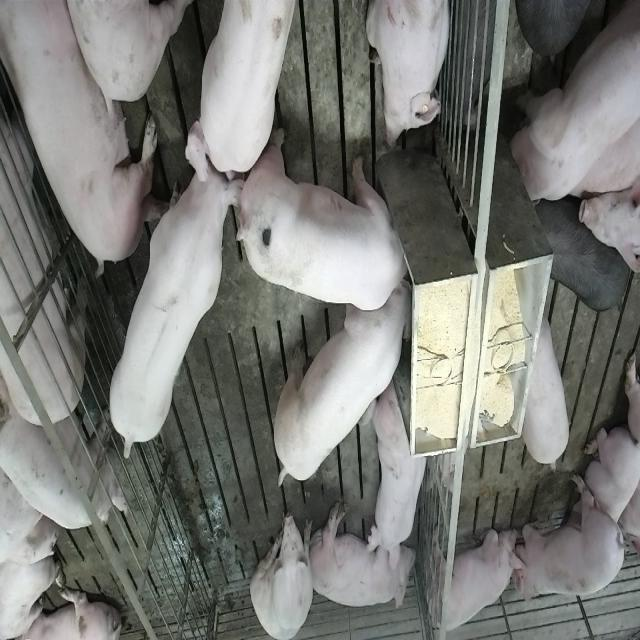Feeding: (243, 128, 418, 312), (269, 279, 411, 495)
Lateral_lying: (4, 0, 160, 273), (308, 501, 418, 616)
Sitting: (422, 516, 516, 640), (251, 503, 315, 638)
Standing: (107, 123, 245, 460), (0, 51, 88, 434), (509, 0, 638, 205), (188, 0, 302, 176), (0, 385, 124, 536), (510, 475, 626, 613), (532, 194, 628, 316), (523, 317, 573, 476)
Sternal_lying: (366, 0, 454, 150), (368, 382, 432, 568), (570, 428, 638, 558)
